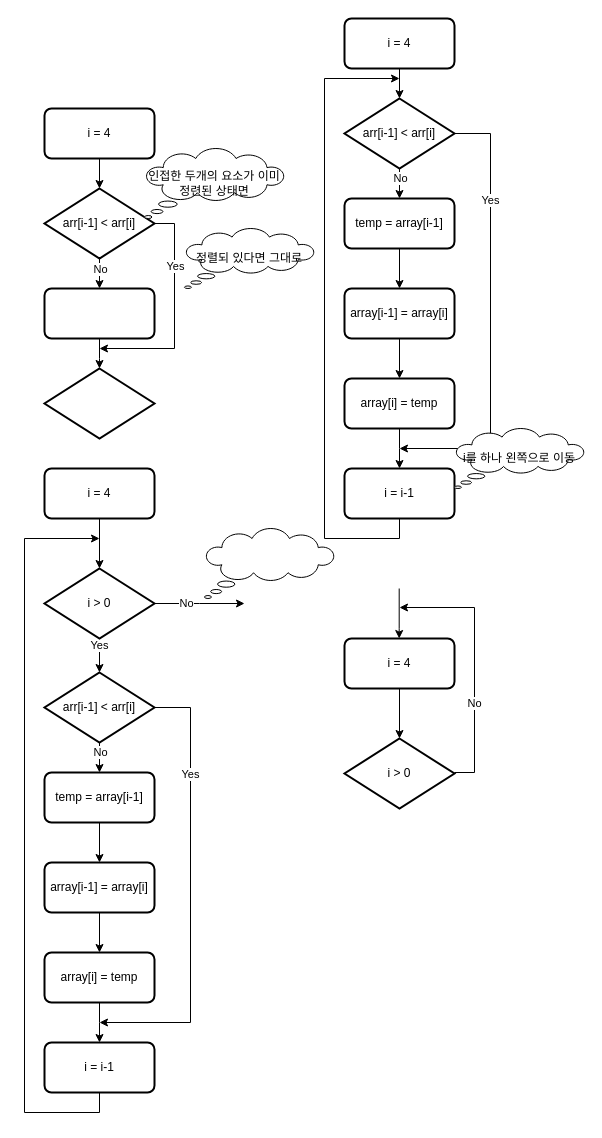
The diagram is 602 pixels wide and 1138 high, and some of its shapes have lost their labels. Here are the shapes that lost their labels. From the top down, the centre of each, then its label:
[99,313]: 교환
[269,563]: 두번째 요소를 확정시키는 처리를 시작
